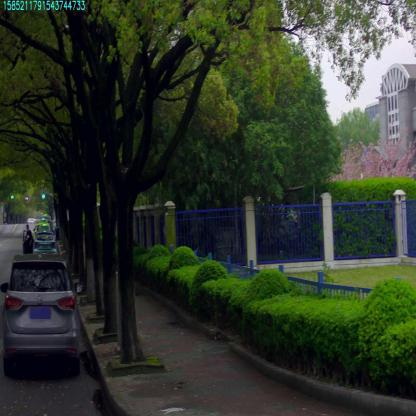traffic-light: (42, 186, 45, 199), (10, 194, 14, 200)
